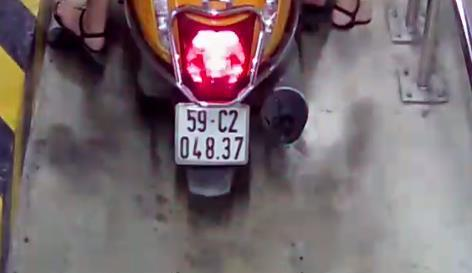lisence: (174, 101, 250, 165)
